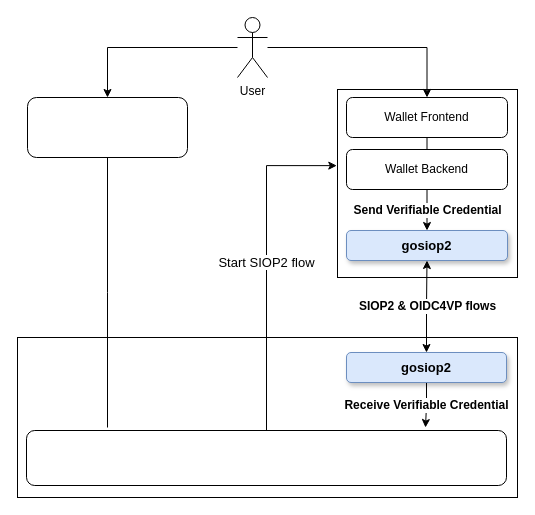
Some shapes in this 535 by 515 pixel diagram are drawn without their labels. Each missing label, with the centre of its shape:
Relaying Party Backend: (x=266, y=458)
Relaying Party Frontend Browser: (x=107, y=127)
